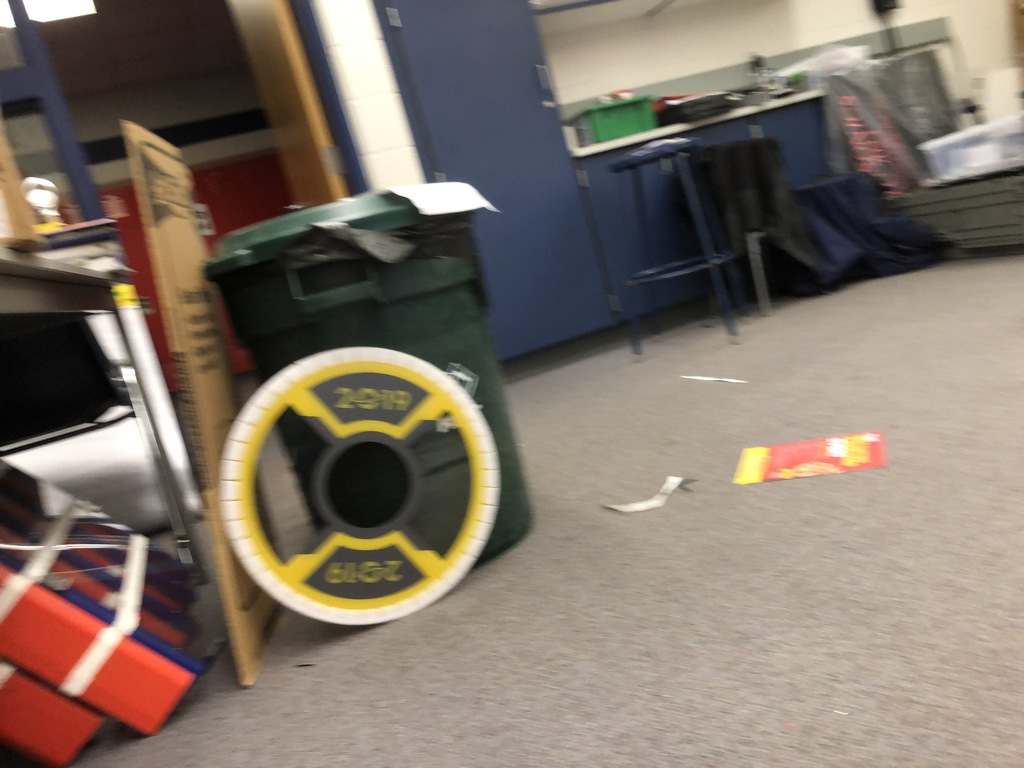hatch_panel: (215, 344, 516, 632)
